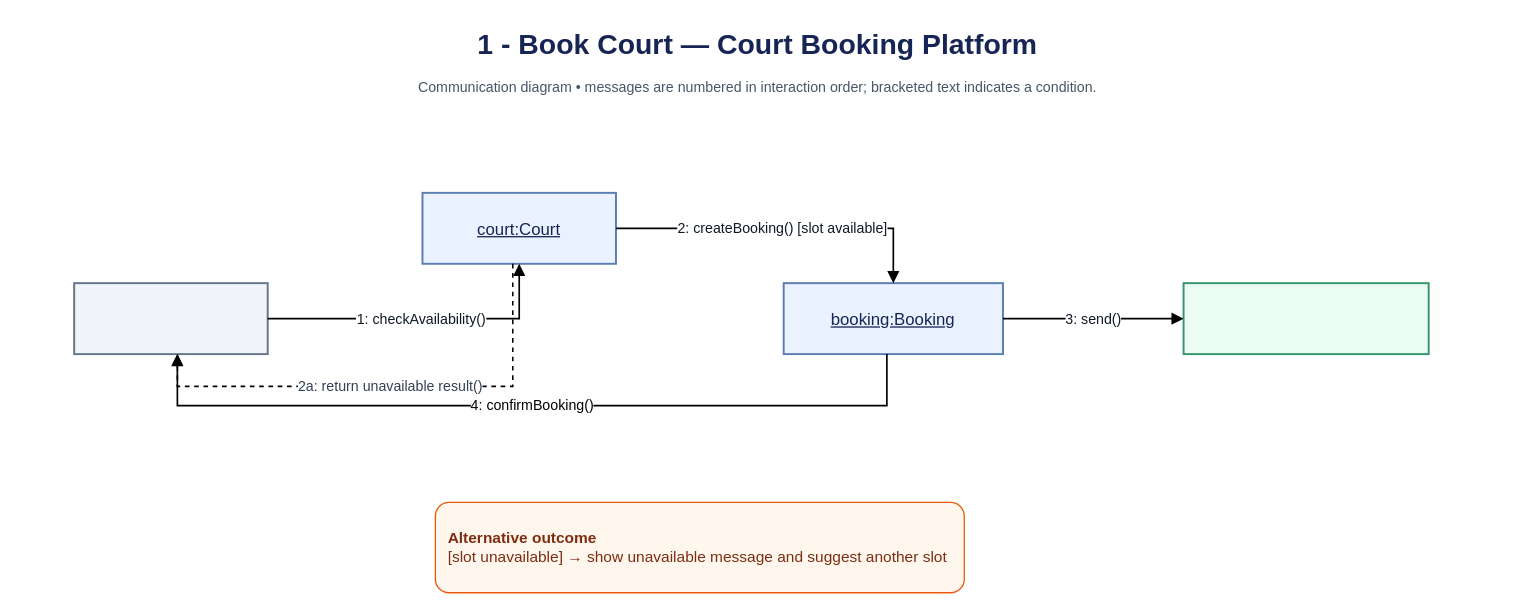
This 1514x615 diagram has some shape labels left out. The shapes that lost their labels are listed below. From the top down, each one's centre as x and y in pixels, then its label:
At (x=170, y=318): "student:Student".
At (x=1305, y=318): "notification:Notification".
